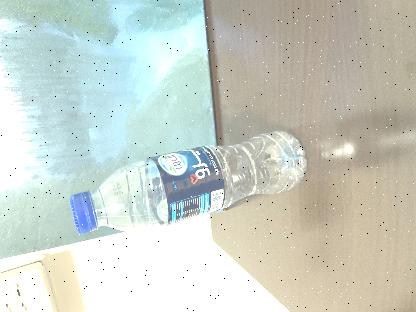Plastic Bottle: (69, 131, 307, 234)
